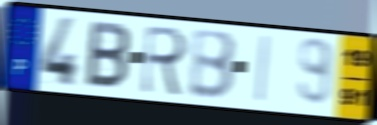4: (38, 16, 81, 89)
9: (297, 35, 335, 113)
B: (188, 30, 239, 103), (83, 18, 132, 92)
I: (253, 33, 273, 106)
R: (139, 23, 190, 99)
